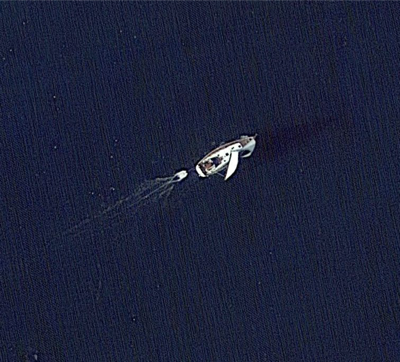boat: (194, 128, 266, 185), (169, 170, 189, 187)
